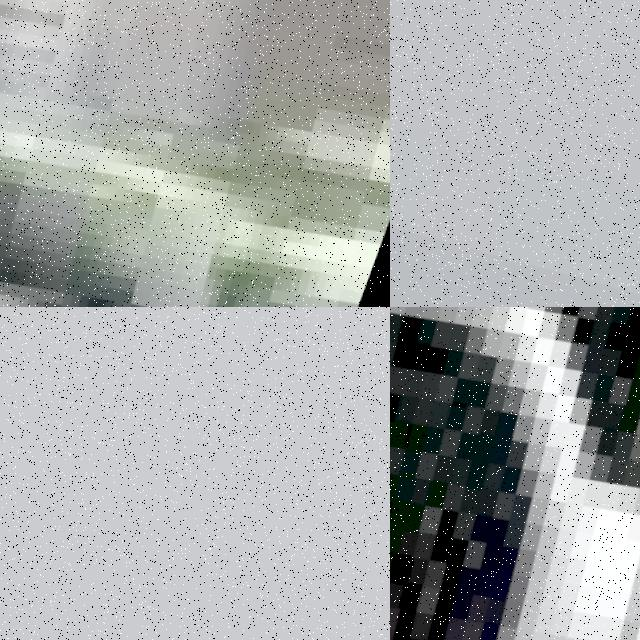drone: (0, 0, 390, 307), (390, 307, 640, 640)
